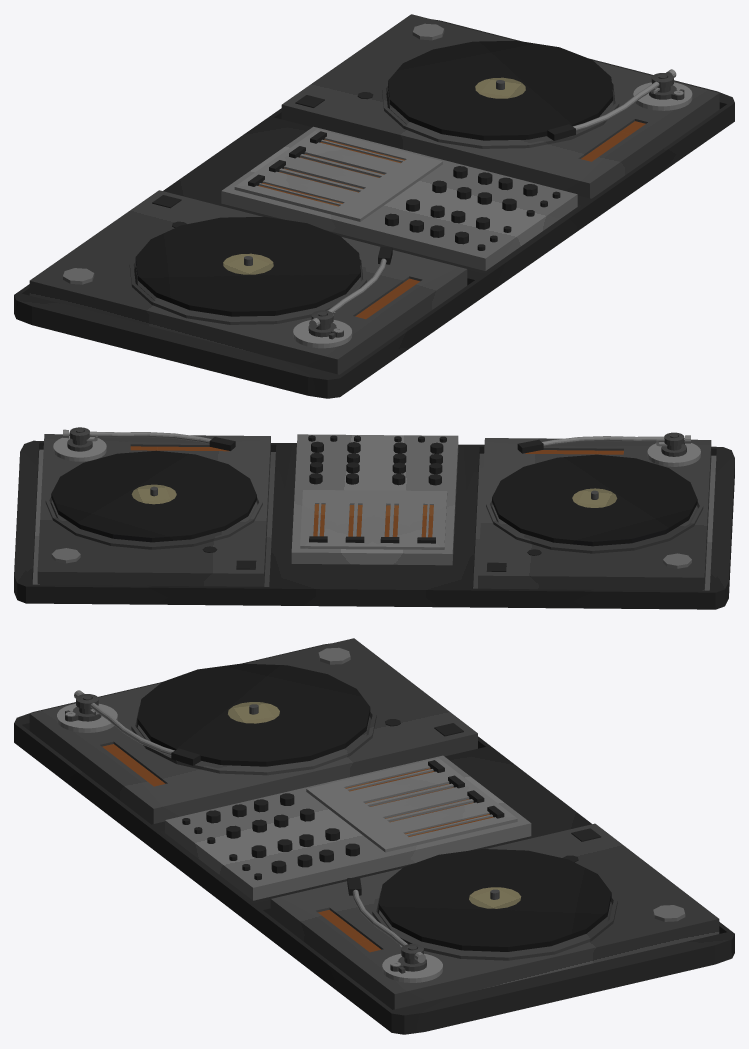
Rendered from DJ DECK.glb.
3 views of the same model, one above another, from view 1: azimuth 30°, elevation 25°; view 2: azimuth 150°, elevation 25°; view 3: azimuth 270°, elevation 25° (orthographic). The views are drawn at different scales.
Parts seen in each view (by area): view 1: DJ DECK; view 2: DJ DECK; view 3: DJ DECK.
Boxes of the visible parts, <box> form: DJ DECK: <box>14,14,734,398</box>; DJ DECK: <box>14,427,734,609</box>; DJ DECK: <box>14,638,734,1034</box>.
Bounding box in the file's own units: 3.99 × 0.2712 × 3.25.
Materials: 1 (1 with a texture image).
